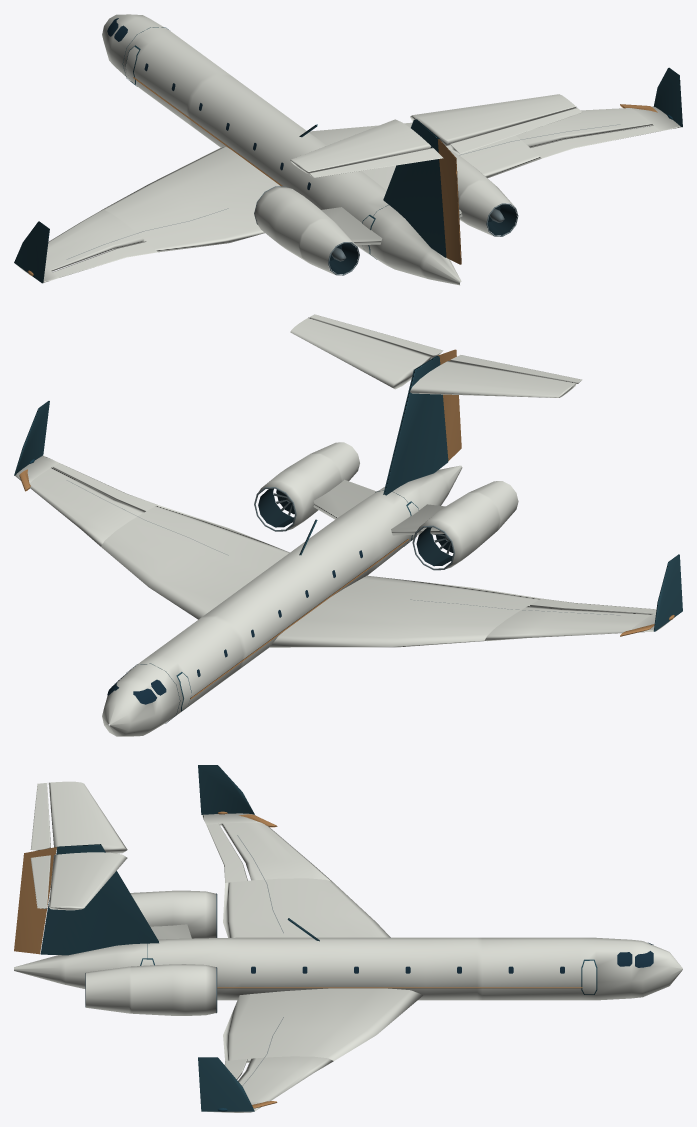
Rendered from player-meridian-mobile-v3.glb.
3 renders of one model, top to bottom at view 1: azimuth 30°, elevation 25°; view 2: azimuth 150°, elevation 25°; view 3: azimuth 270°, elevation 25°, orthographic. The views are drawn at different scales.
Parts seen in each view (by area): view 1: hull, trim, rudder, elevator-right, aileron-right, elevator-left, dark, aileron-left, metal, accent, cabin; view 2: hull, trim, dark, rudder, aileron-right, elevator-right, aileron-left, elevator-left, accent, metal, cabin; view 3: hull, trim, rudder, aileron-left, elevator-left, accent, elevator-right, cabin.
Part boxes in pixels (left/top/right/bottom): hull: left=16, top=14, right=681, bottom=285; trim: left=14, top=27, right=682, bottom=283; rudder: left=437, top=139, right=461, bottom=264; elevator-right: left=450, top=108, right=582, bottom=153; aileron-right: left=530, top=125, right=660, bottom=158; elevator-left: left=309, top=147, right=443, bottom=177; dark: left=329, top=204, right=516, bottom=274; aileron-left: left=53, top=241, right=157, bottom=277; metal: left=254, top=186, right=518, bottom=275; accent: left=27, top=77, right=657, bottom=275; cabin: left=107, top=18, right=310, bottom=189; hull: left=15, top=317, right=674, bottom=736; trim: left=14, top=355, right=682, bottom=723; dark: left=258, top=488, right=453, bottom=566; rudder: left=438, top=349, right=461, bottom=460; aileron-right: left=53, top=463, right=157, bottom=512; elevator-right: left=309, top=314, right=443, bottom=358; aileron-left: left=530, top=598, right=656, bottom=613; elevator-left: left=450, top=355, right=582, bottom=383; accent: left=19, top=469, right=674, bottom=699; metal: left=254, top=487, right=454, bottom=570; cabin: left=107, top=550, right=362, bottom=704; hull: left=14, top=781, right=682, bottom=1112; trim: left=40, top=765, right=597, bottom=1111; rudder: left=14, top=847, right=56, bottom=954; aileron-left: left=206, top=823, right=247, bottom=882; elevator-left: left=30, top=783, right=50, bottom=850; accent: left=217, top=811, right=582, bottom=1108; elevator-right: left=30, top=855, right=50, bottom=908; cabin: left=251, top=942, right=653, bottom=973.
Size of the model in its own units: 21.16 by 5.08 by 20.
